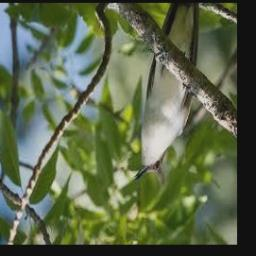Cuckoo: (133, 3, 198, 181)
